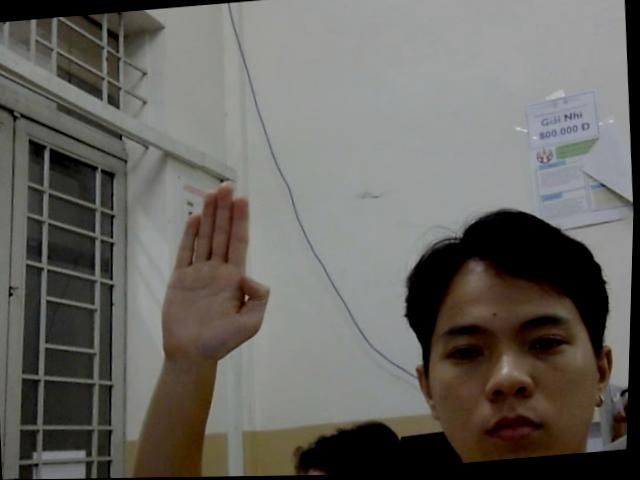B: (148, 172, 285, 355)
